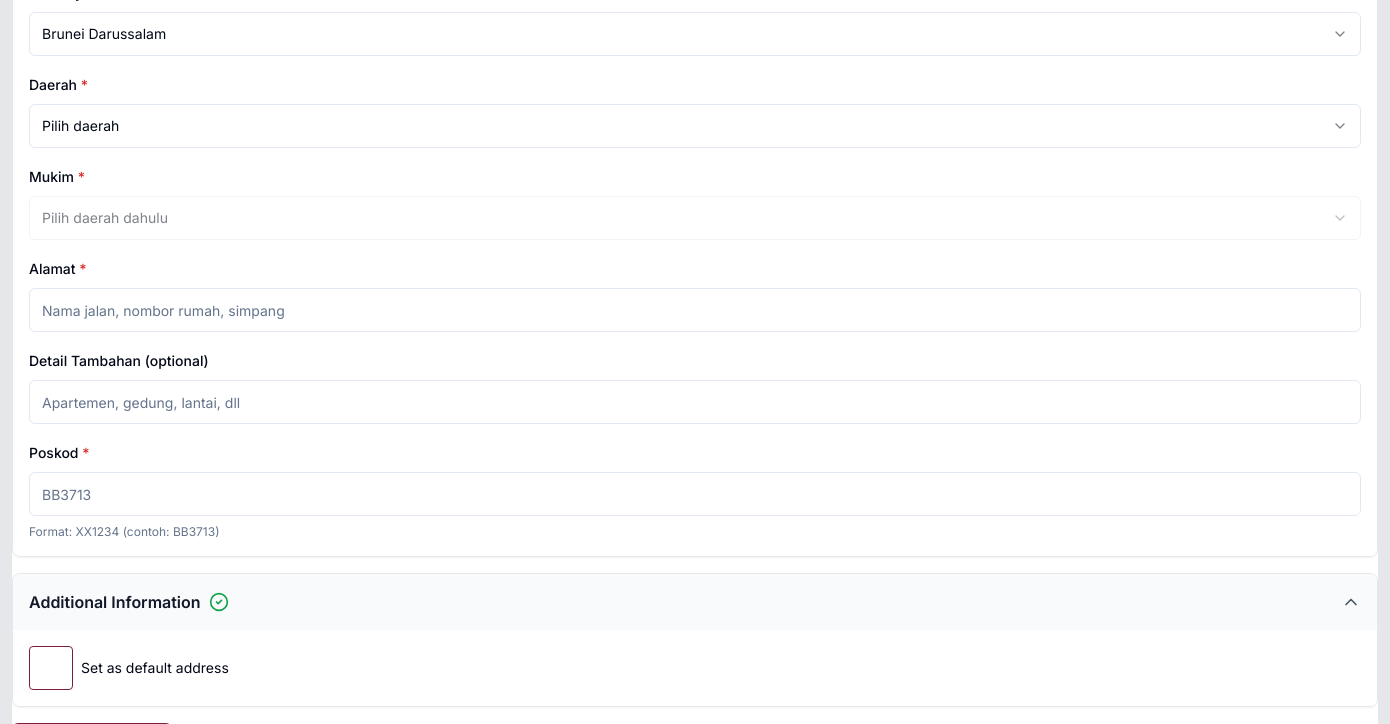
Scenario: AddressForm - Validation and Error Handling › Real-time validation › should validate postal code on blur
(page scrolled)
// Enter invalid postal code
Step 1. Type "123" into the field labelled "Poskod *" → (695, 494), box [29, 472, 1361, 516]
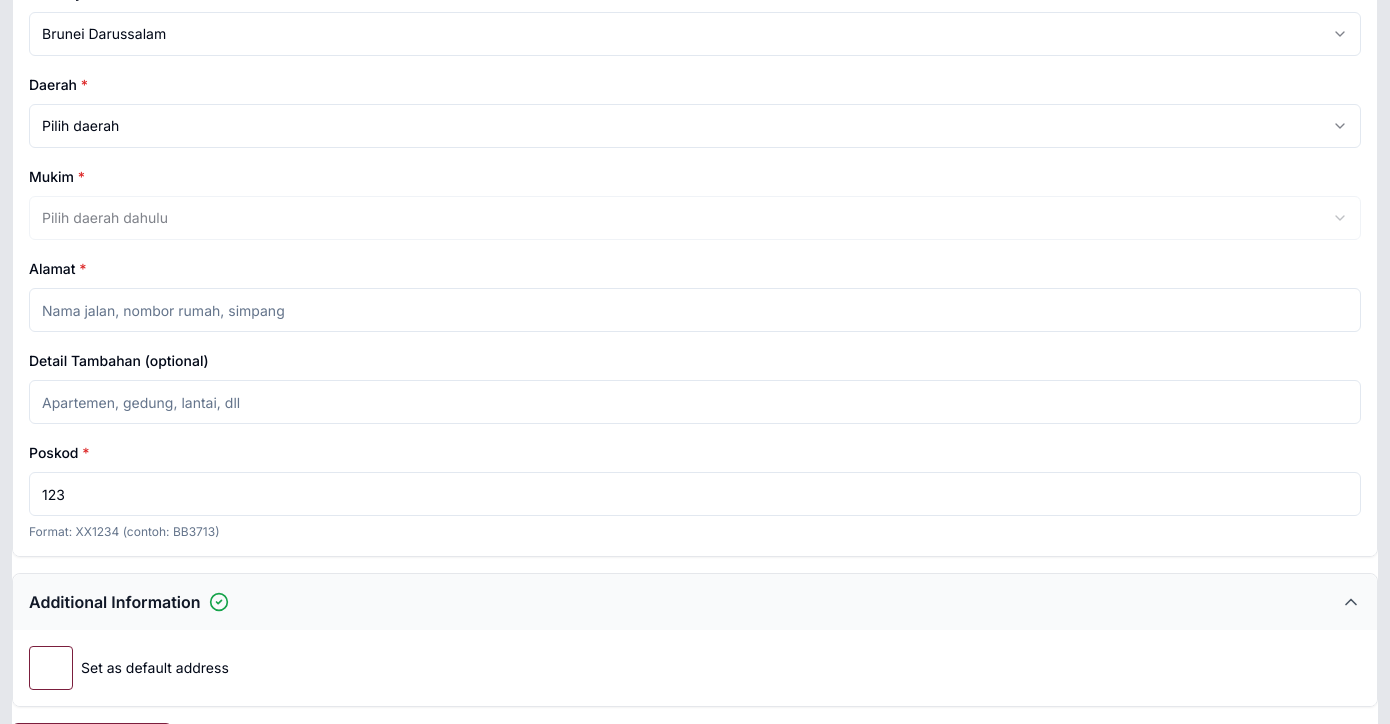
Step 2. Leave the field labelled "Poskod *", box [29, 472, 1361, 516]
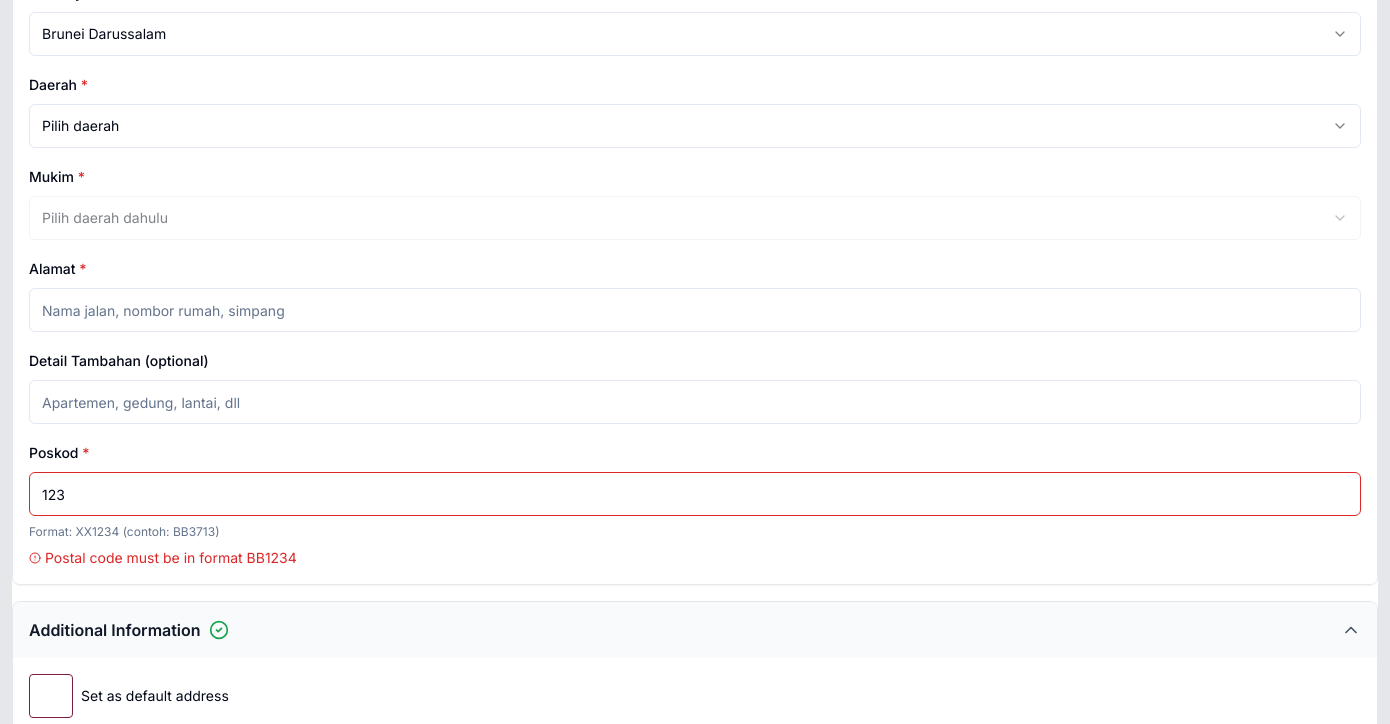
Now the text "Postal code must be in format BB1234" is shown, box [29, 549, 297, 566]
